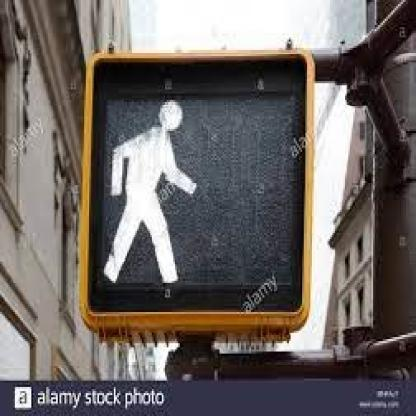Walk: (86, 52, 303, 325)
